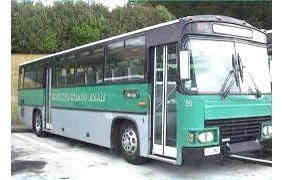bus: (22, 14, 276, 166)
